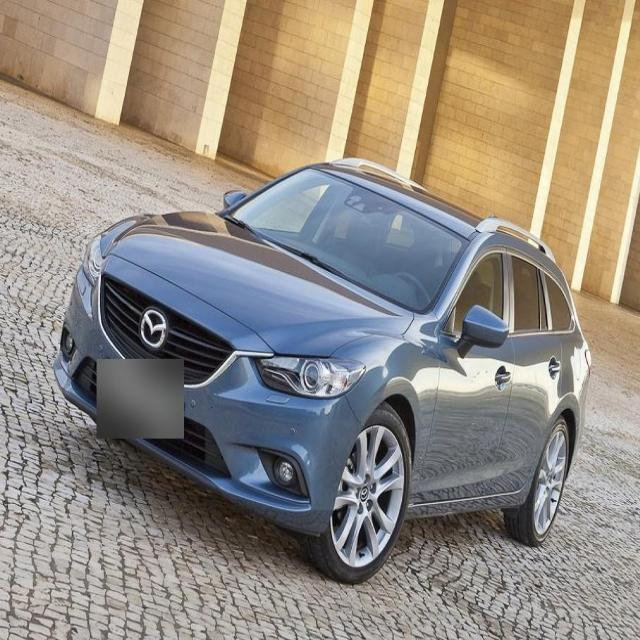door: (516, 259, 563, 480)
front_bumper: (49, 268, 364, 543)
front_glass: (217, 159, 469, 316)
front_left_side_door: (414, 235, 520, 510)
front_left_side_light: (252, 348, 368, 401)
front_left_side_mirror: (450, 300, 509, 356)
front_right_side_light: (79, 231, 107, 299)
front_right_side_mirror: (221, 183, 245, 218)
wheel: (294, 409, 412, 573), (498, 416, 571, 542)
